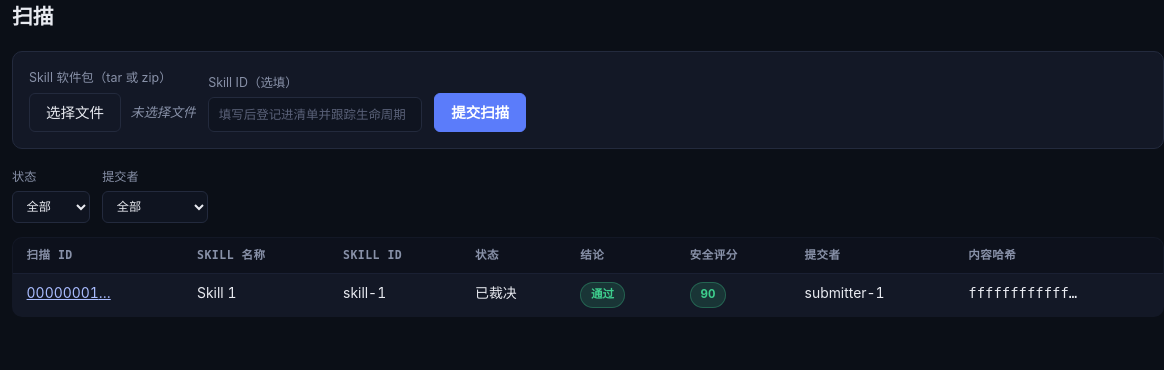
Test case: ScansPage trust tier on a resubmission › leaves the control usable for a skill_id nobody has registered
Expected: the text "Skill 1" is shown, top-left (184, 273), bottom-right (330, 316)
Type "brand-new-skill" into the field with placeholder "填写后登记进清单并跟踪生命周期".
click(315, 115); type("brand-new-skill")  # box top-left (208, 98), bottom-right (422, 132)
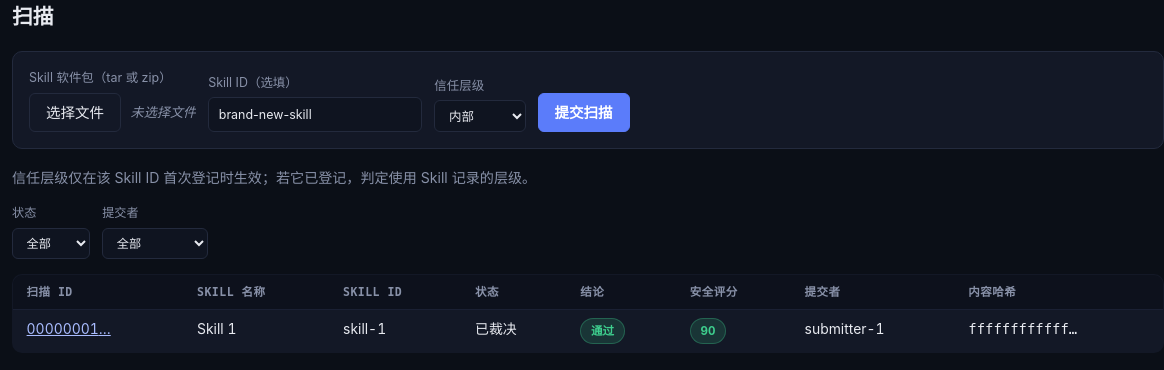
Now the dropdown labelled "信任层级" is enabled, box top-left (434, 100), bottom-right (526, 132)
Now the text "信任层级仅在该 Skill ID 首次登记时生效；若它已登记，判定使用 Skill 记录的层级。" is shown, box top-left (12, 169), bottom-right (536, 186)
